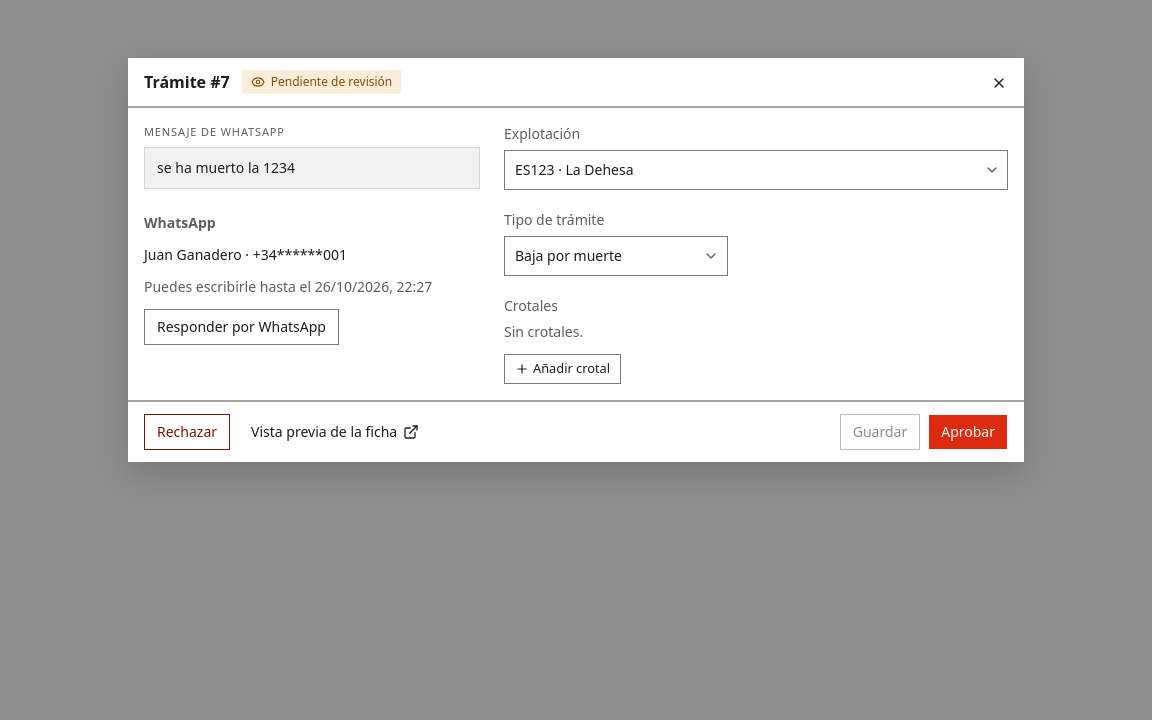
Test case: Sección WhatsApp: el panel › Cancelar cierra el panel y devuelve el foco a «Responder por WhatsApp»
expect the heading "Mensaje de WhatsApp" is shown: met, box [144,124,285,139]
Click the button "Responder por WhatsApp" at (241, 327), box [144,309,339,345]
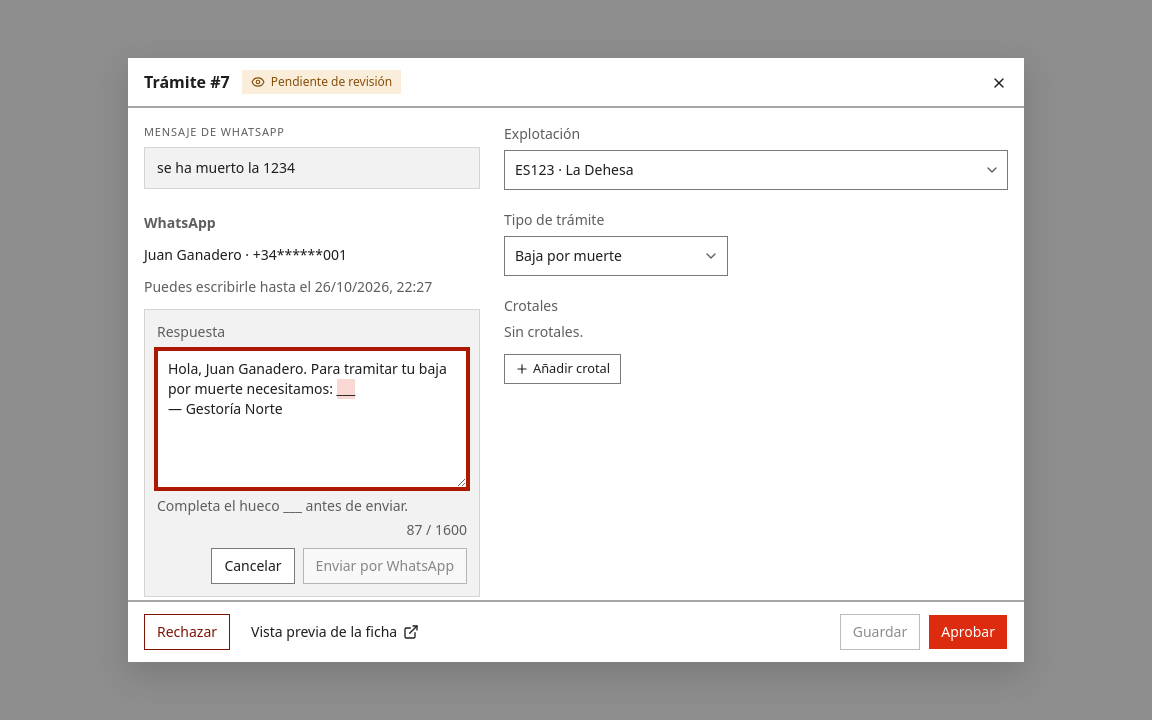
Click the button "Cancelar" at (253, 566), box [211,548,295,584]
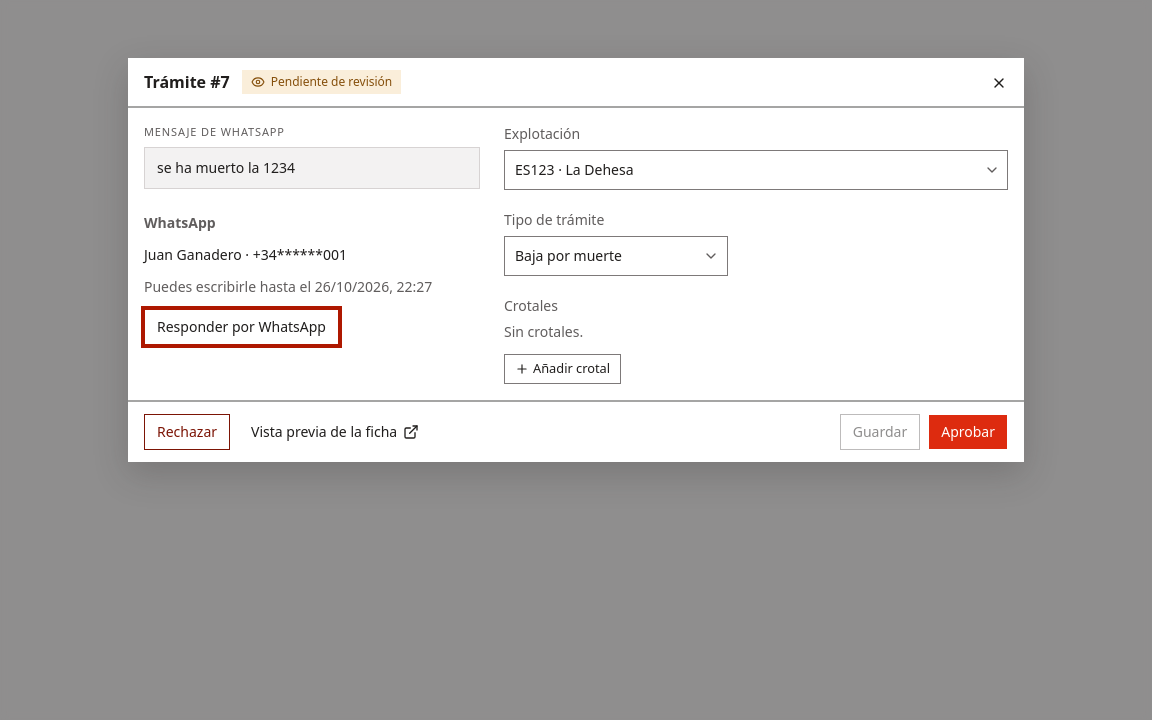
expect the label "Respuesta" is gone: met
